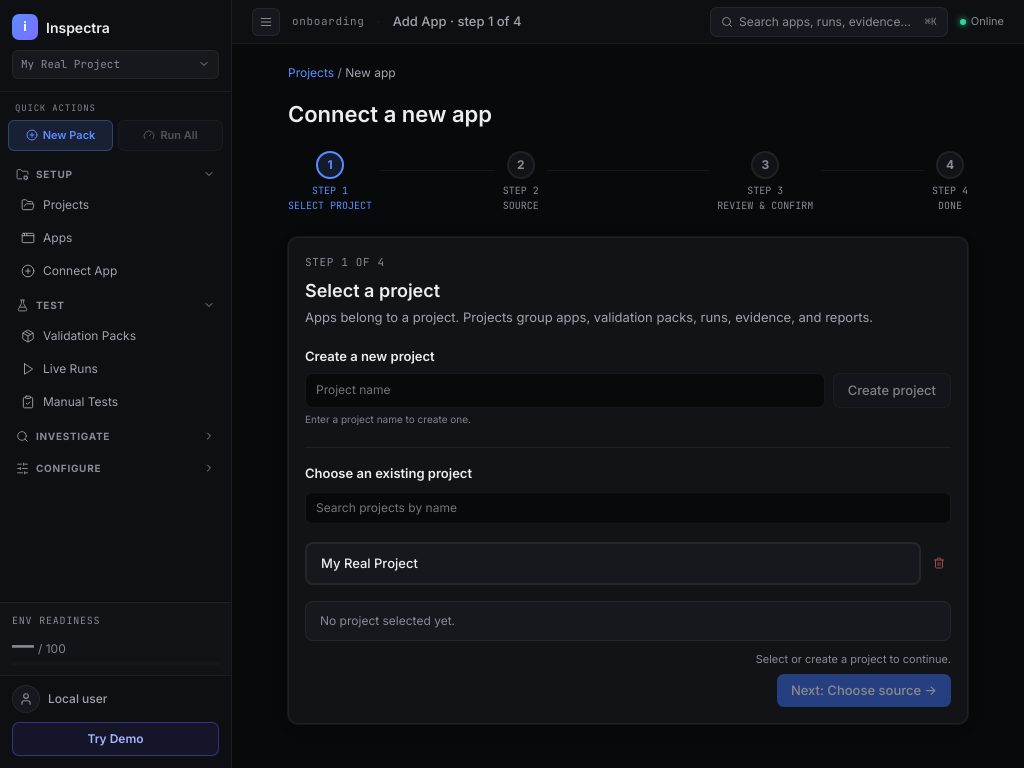
AddAppPage — step 1 UX › selected project summary shows name after clicking a project
Click the element with test id "project-item": (613, 563) [305, 542, 921, 585]
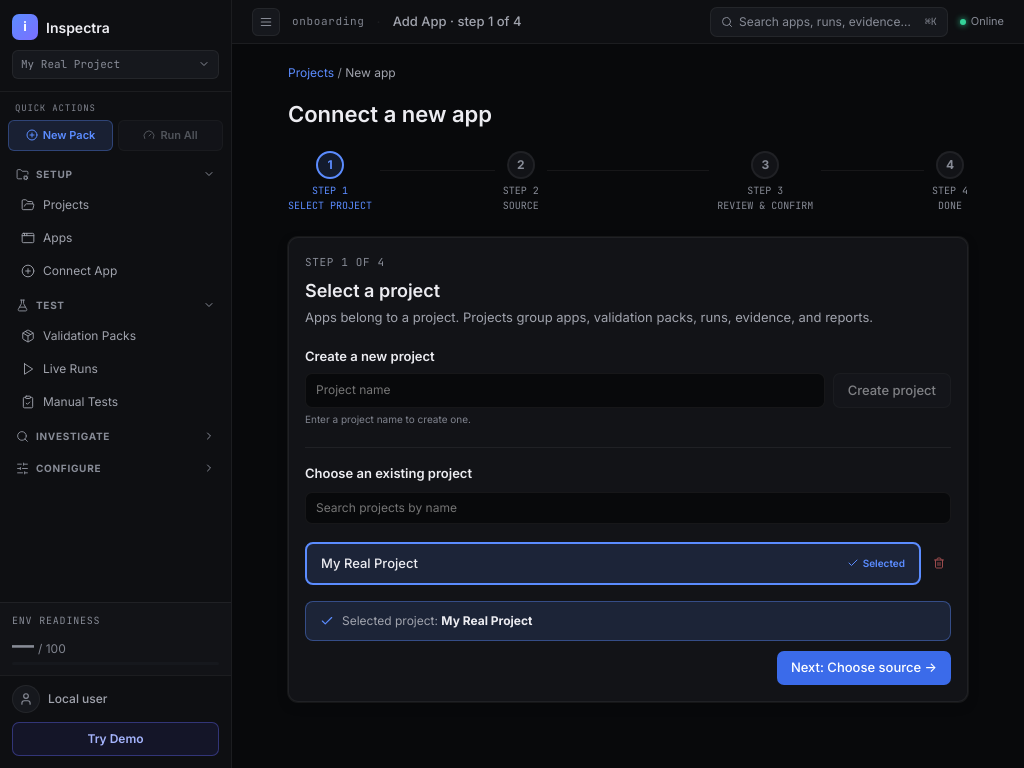
Result: the element with test id "selected-project-summary" shows "My Real Project" at [441, 613, 532, 628]
